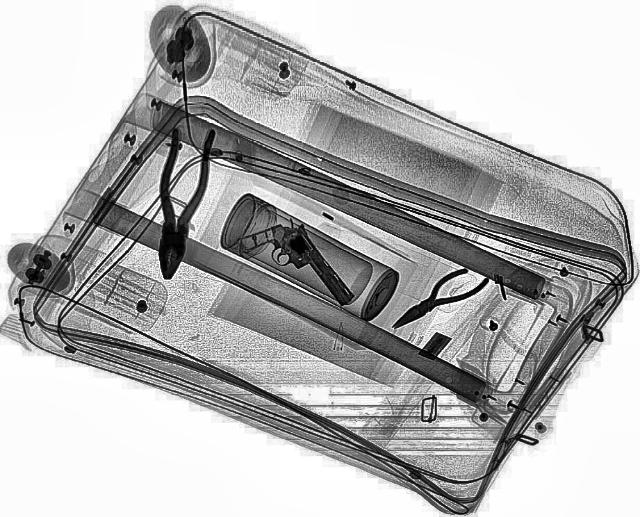Gun: (234, 210, 358, 330)
Pliers: (144, 126, 214, 280), (381, 261, 492, 338)
